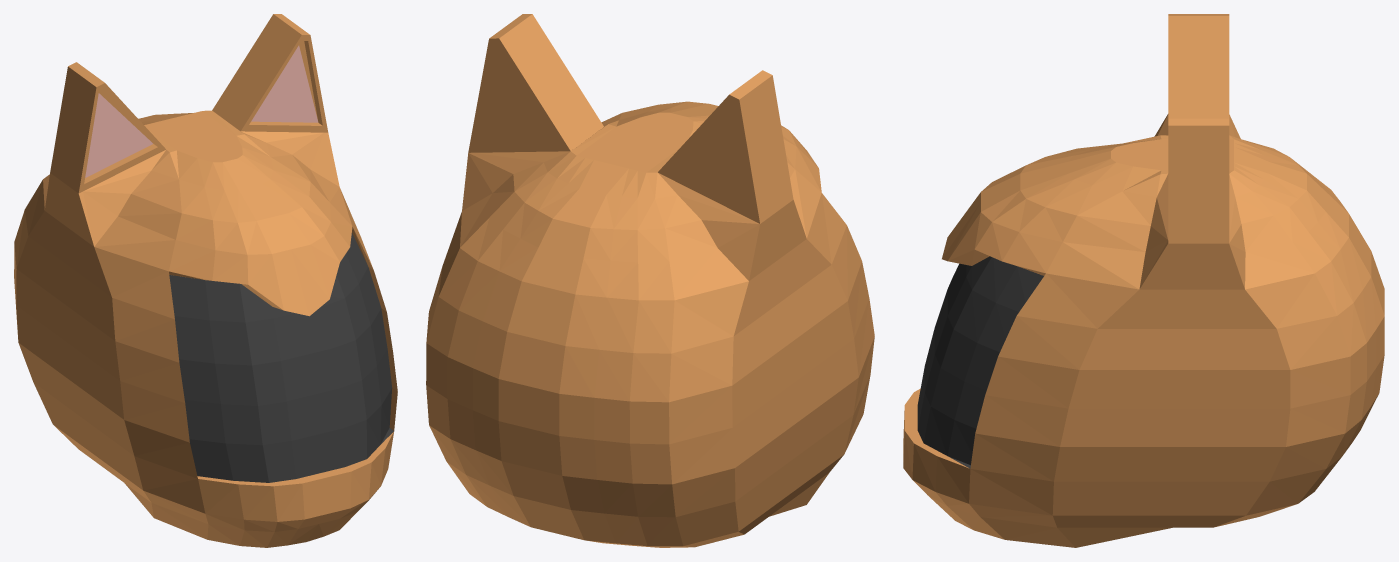
File: kittyHelmet_UVed.fbx
The picture shows the model from 3 angles, left to right: view 1: azimuth 30°, elevation 25°; view 2: azimuth 150°, elevation 25°; view 3: azimuth 270°, elevation 25°; orthographic projection. The views are drawn at different scales.
Parts seen in each view (by area): view 1: polySurface1; view 2: polySurface1; view 3: polySurface1.
Boxes of the visible parts, <box> form: polySurface1: <box>14,14,397,547</box>; polySurface1: <box>426,14,874,547</box>; polySurface1: <box>903,14,1384,547</box>.
Bounding box in the file's own units: 3.78 × 5.66 × 5.68.
